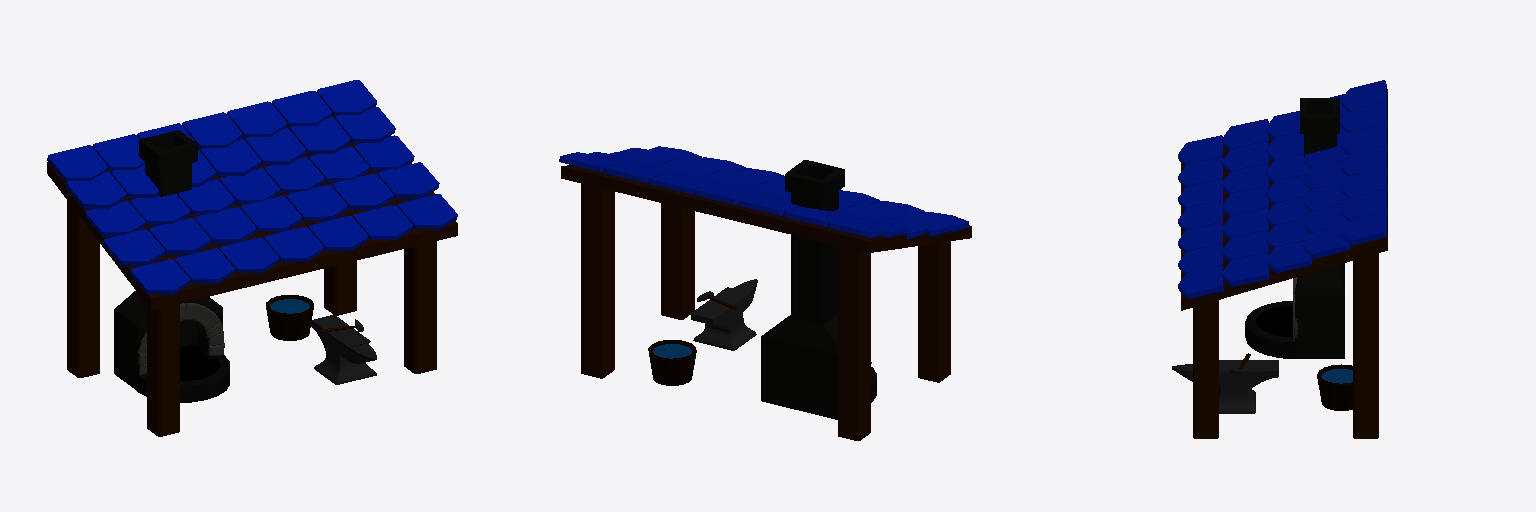
The model's file is Blacksmith_BlueTeam.obj.
3 renders of one model, left to right at view 1: azimuth 30°, elevation 25°; view 2: azimuth 150°, elevation 25°; view 3: azimuth 270°, elevation 25°, orthographic.
Visible parts, largest first — view 1: Blacksmith_BlueTeam_Cube.014; view 2: Blacksmith_BlueTeam_Cube.014; view 3: Blacksmith_BlueTeam_Cube.014.
Part boxes in pixels (left/top/right/bottom): Blacksmith_BlueTeam_Cube.014: left=47, top=80, right=457, bottom=436; Blacksmith_BlueTeam_Cube.014: left=559, top=146, right=971, bottom=440; Blacksmith_BlueTeam_Cube.014: left=1172, top=80, right=1387, bottom=438.
Bounding box in the file's own units: 22.65 × 15.71 × 13.37.